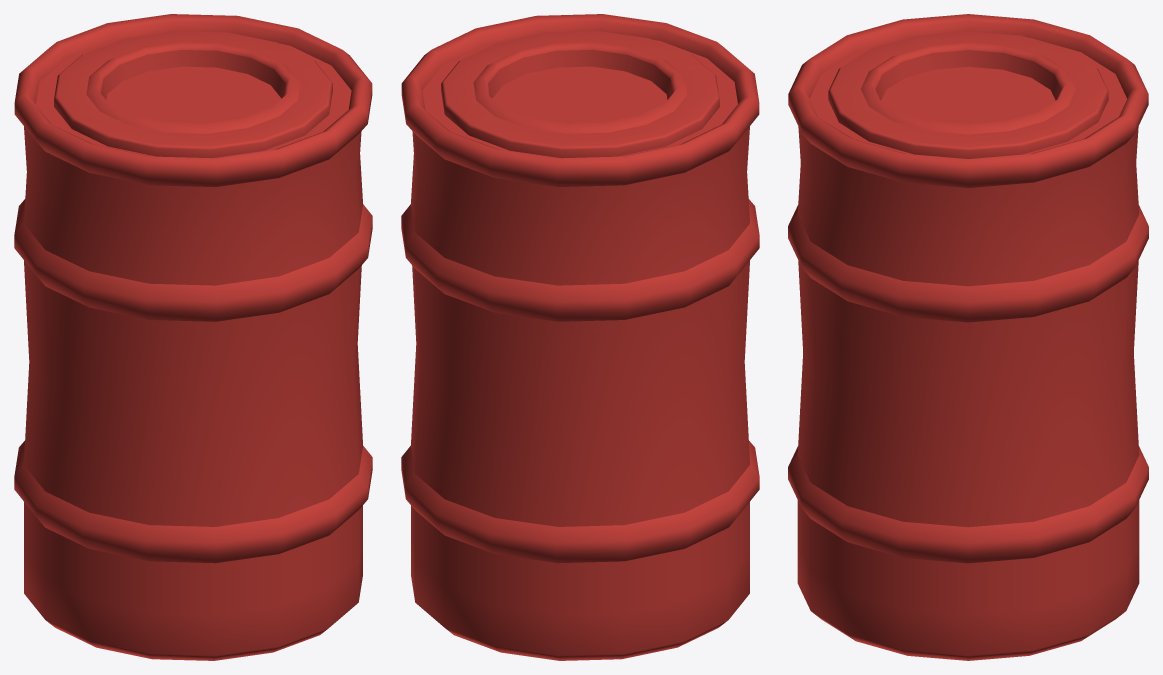
File: Red barrel.fbx
3 renders of one model, left to right at view 1: azimuth 30°, elevation 25°; view 2: azimuth 150°, elevation 25°; view 3: azimuth 270°, elevation 25°, orthographic.
Visible parts, largest first — view 1: pCylinder5; view 2: pCylinder5; view 3: pCylinder5.
Boxes of the visible parts, x1,y1,x2,y2 form: pCylinder5: [14, 14, 372, 660]; pCylinder5: [401, 14, 759, 660]; pCylinder5: [788, 14, 1148, 660].
Size of the model in its own units: 45.05 by 70.34 by 45.05.
